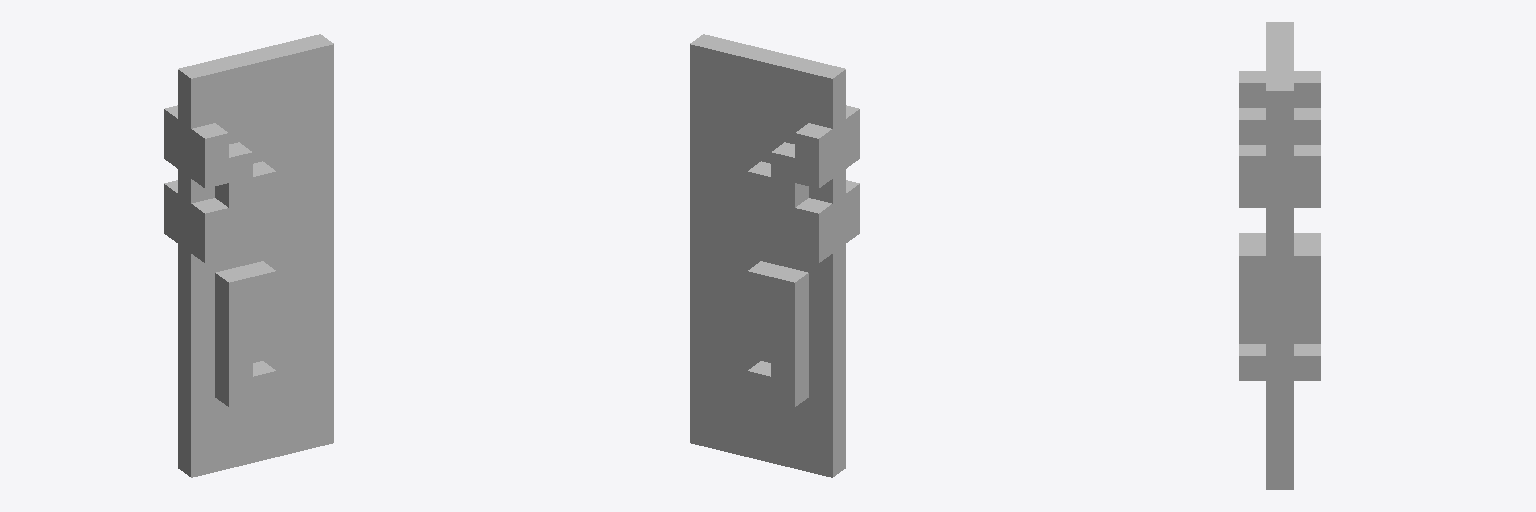
File: 03_small_door_2X.obj
3 views of the same model, side by side, from view 1: azimuth 30°, elevation 25°; view 2: azimuth 150°, elevation 25°; view 3: azimuth 270°, elevation 25° (orthographic).
Bounding box in the file's own units: 6 × 16 × 3.